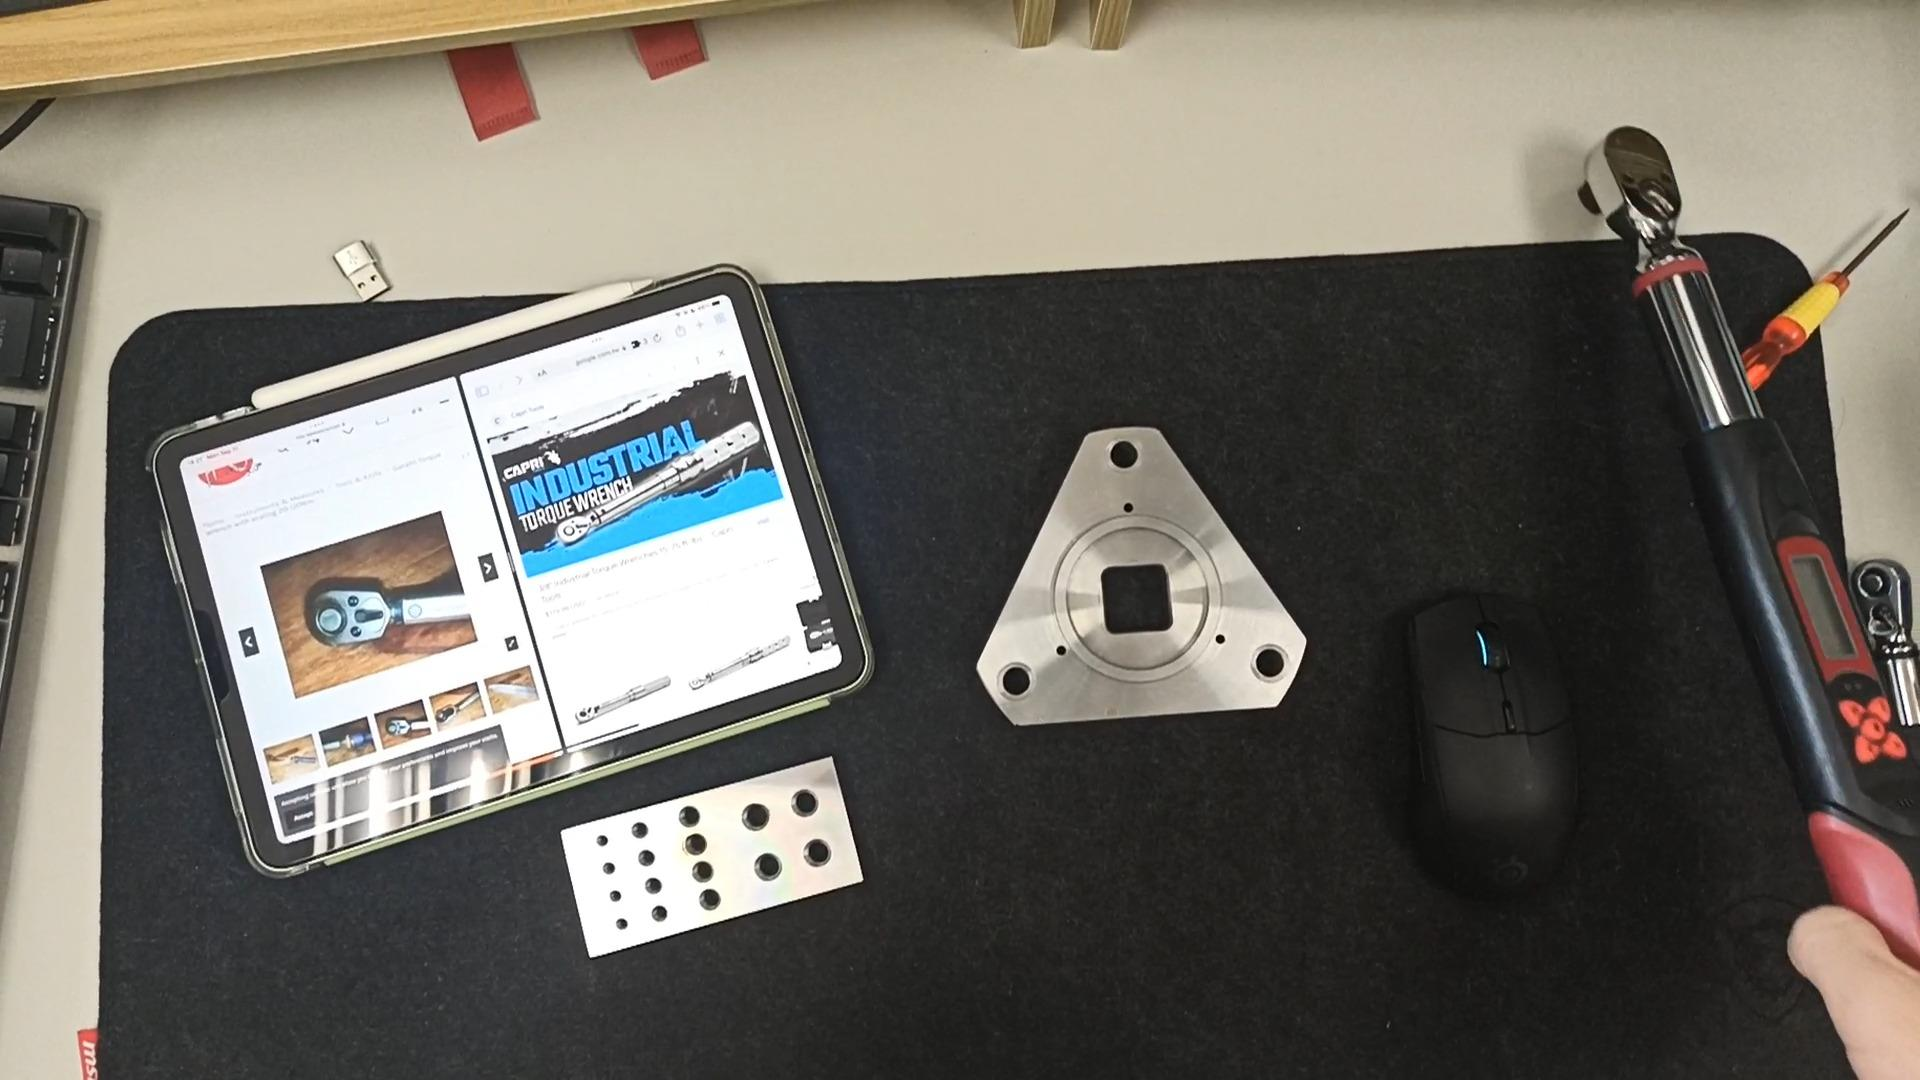Tool: (1583, 127, 1706, 271), (301, 578, 393, 648), (1847, 554, 1916, 644), (556, 515, 588, 546)
hole: (1250, 642, 1297, 691), (996, 660, 1034, 704), (1105, 438, 1147, 477), (785, 786, 823, 821), (800, 838, 836, 874), (740, 801, 775, 837), (754, 851, 788, 887), (696, 889, 727, 916), (691, 860, 721, 887), (675, 804, 704, 831), (684, 836, 712, 861), (645, 873, 670, 897), (651, 904, 677, 927), (632, 850, 657, 872), (631, 819, 656, 840), (591, 834, 613, 853), (601, 885, 622, 904), (610, 916, 630, 935), (597, 861, 617, 879)
